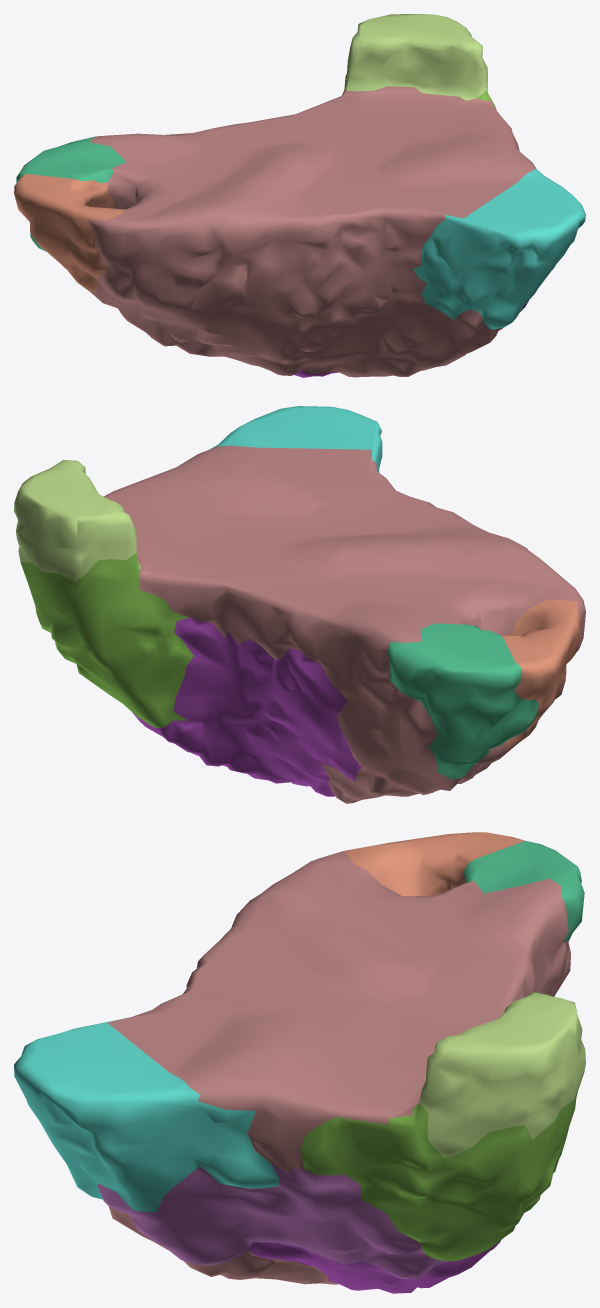
The model's file is platform3_lp.fbx.
3 renders of one model, top to bottom at view 1: azimuth 30°, elevation 25°; view 2: azimuth 150°, elevation 25°; view 3: azimuth 270°, elevation 25°, orthographic. The views are drawn at different scales.
Parts seen in each view (by area): view 1: platform3_lp; view 2: platform3_lp; view 3: platform3_lp.
Boxes of the visible parts, <box> form: platform3_lp: <box>14,14,585,377</box>; platform3_lp: <box>14,406,585,803</box>; platform3_lp: <box>14,832,585,1293</box>.
Bounding box in the file's own units: 2799 × 1537 × 2273.
